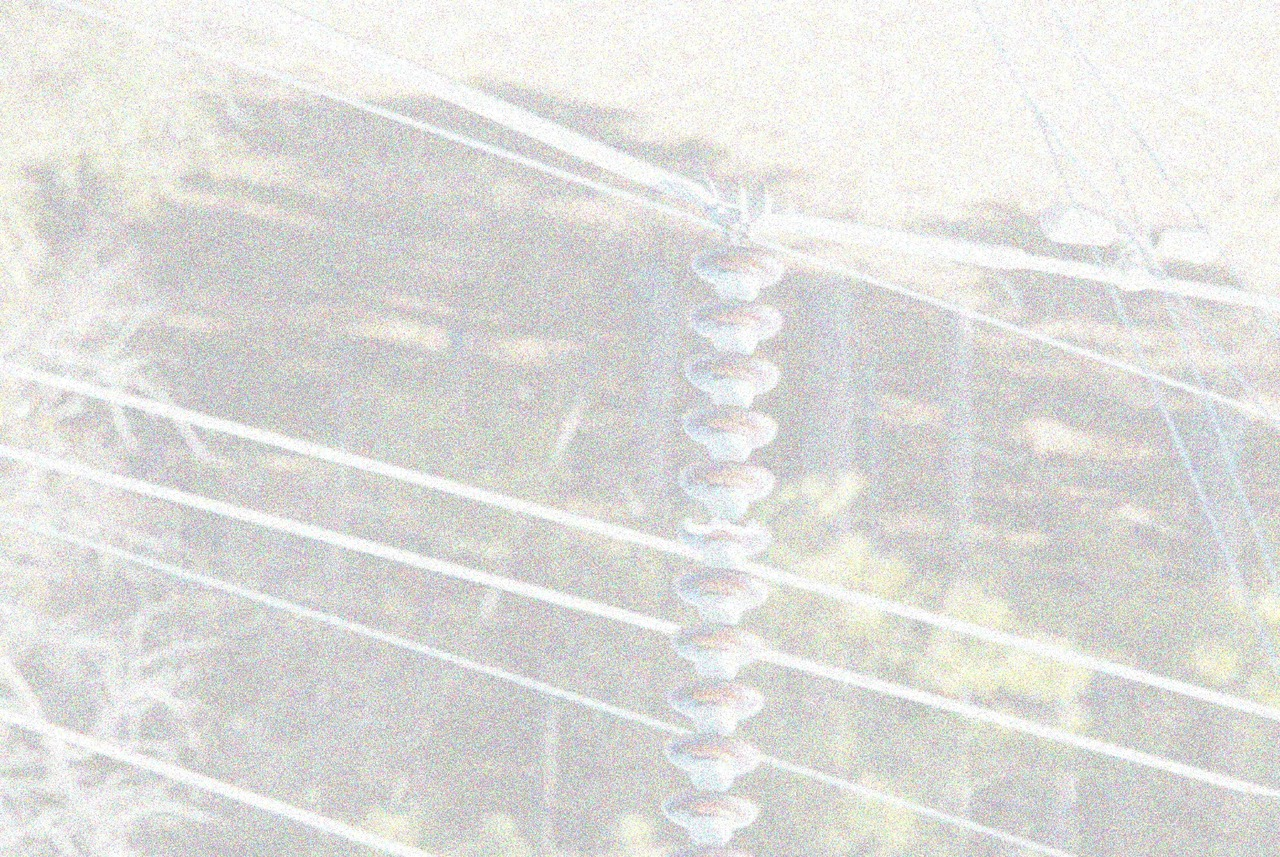Broken: (673, 512, 777, 567)
No issues: (665, 677, 767, 736), (660, 789, 762, 848), (661, 733, 763, 792), (670, 565, 772, 624), (675, 456, 777, 515), (678, 403, 780, 462), (680, 349, 782, 408), (685, 297, 787, 356), (683, 246, 785, 305), (665, 622, 767, 680)
String: (655, 220, 791, 854)
